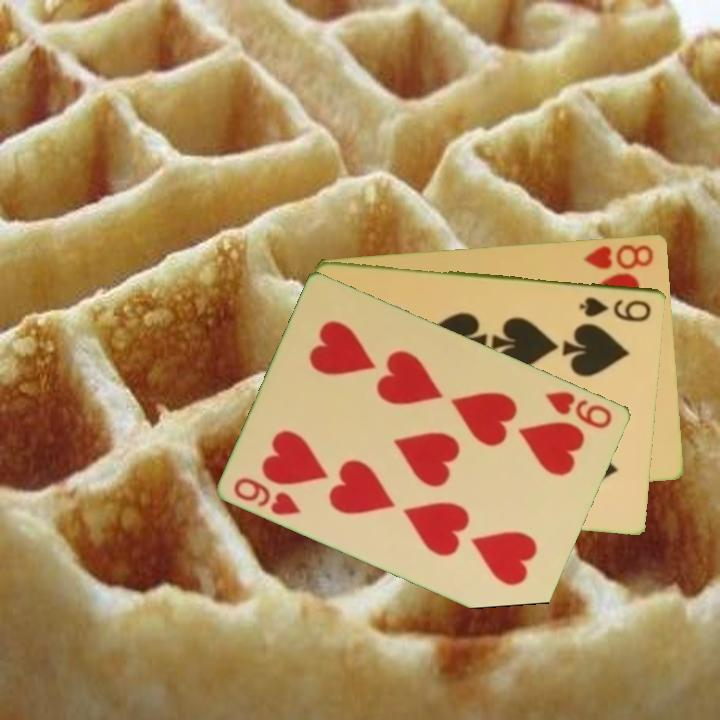8h: (579, 240, 657, 272)
9h: (230, 473, 305, 519), (542, 387, 616, 432)
9s: (576, 293, 655, 325)
